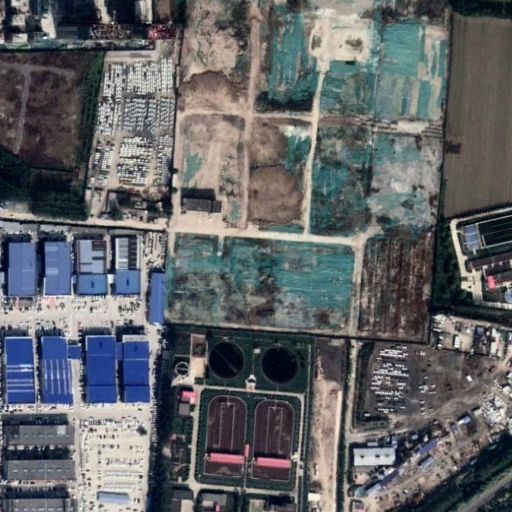cw: (167, 6, 441, 336)
